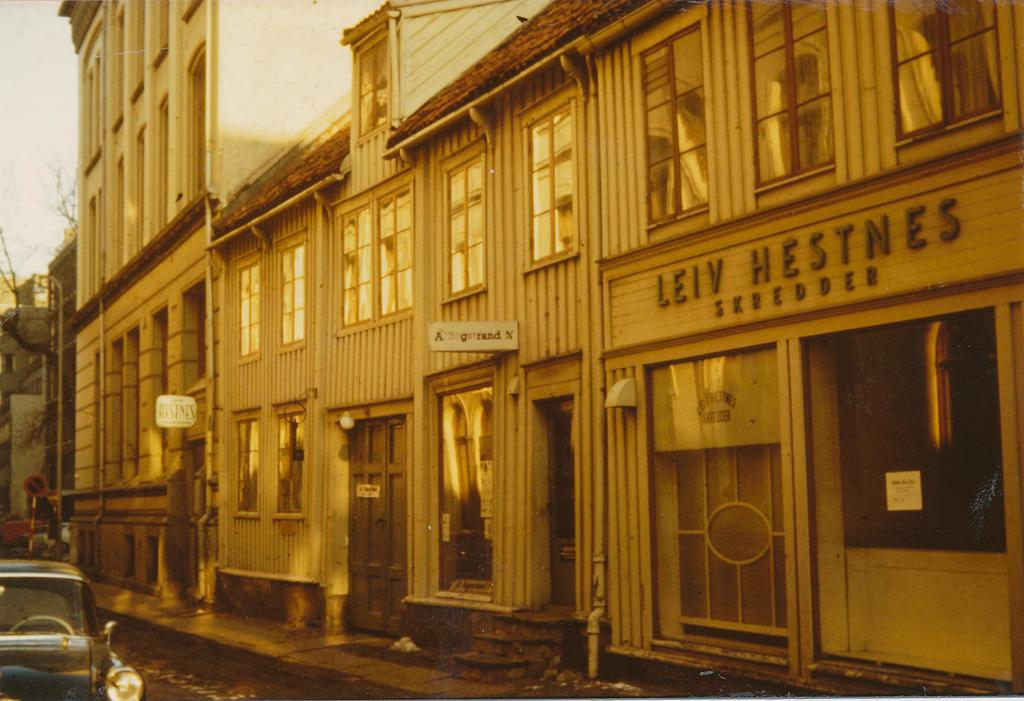Car: (0, 561, 145, 695)
